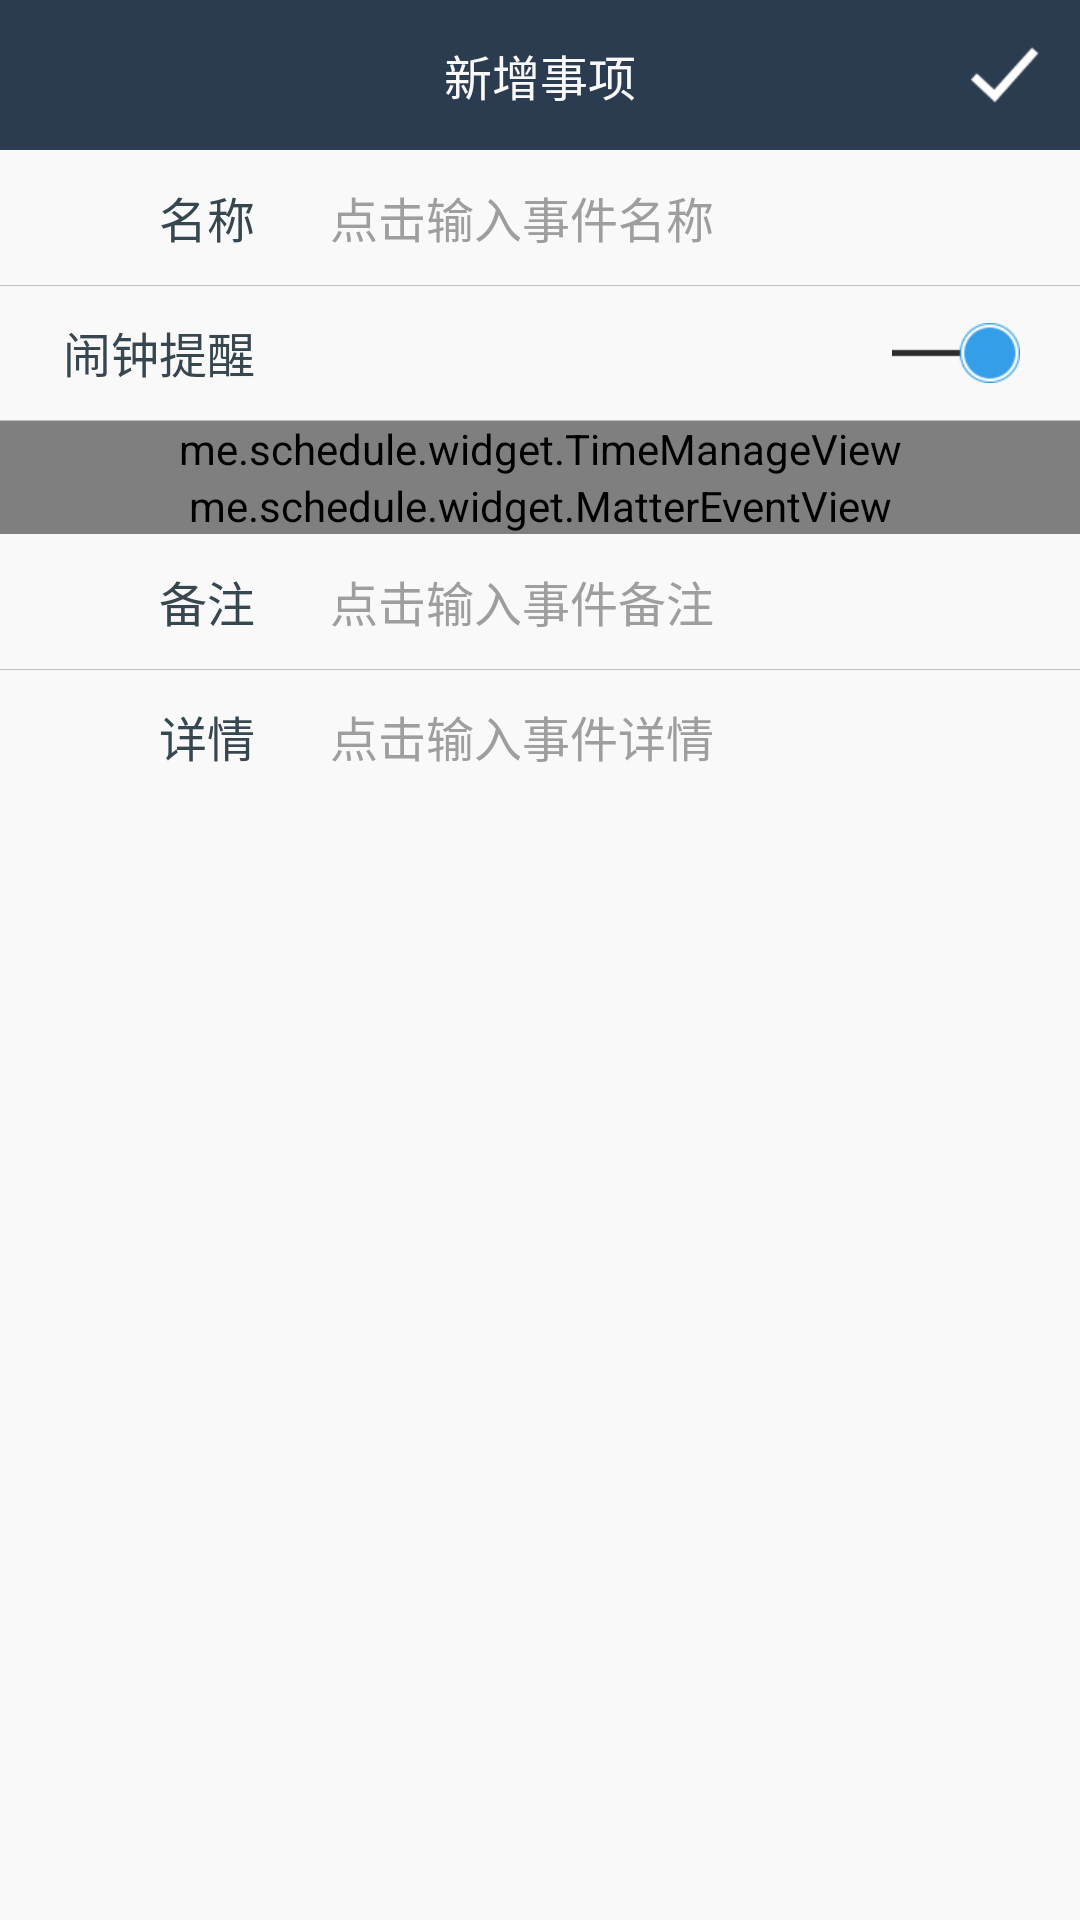

Where to tap for icons on this 1080x1920 app screen, as (x=x, y=y):
titlebar tick: (x=1005, y=75)
